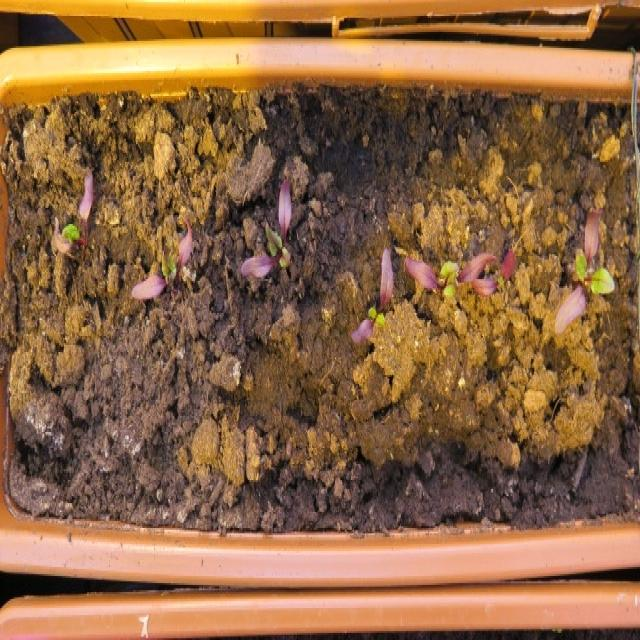crop: (548, 206, 619, 336), (235, 173, 295, 279), (126, 212, 196, 302), (345, 240, 392, 345), (47, 164, 97, 256)
